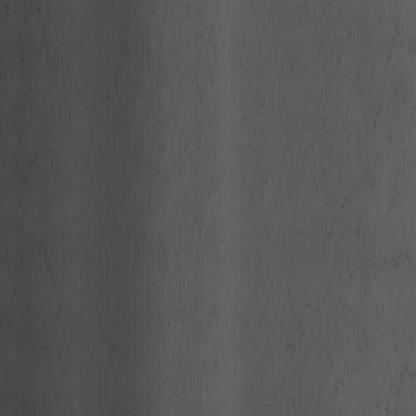silk_spot: (268, 52, 402, 283)
